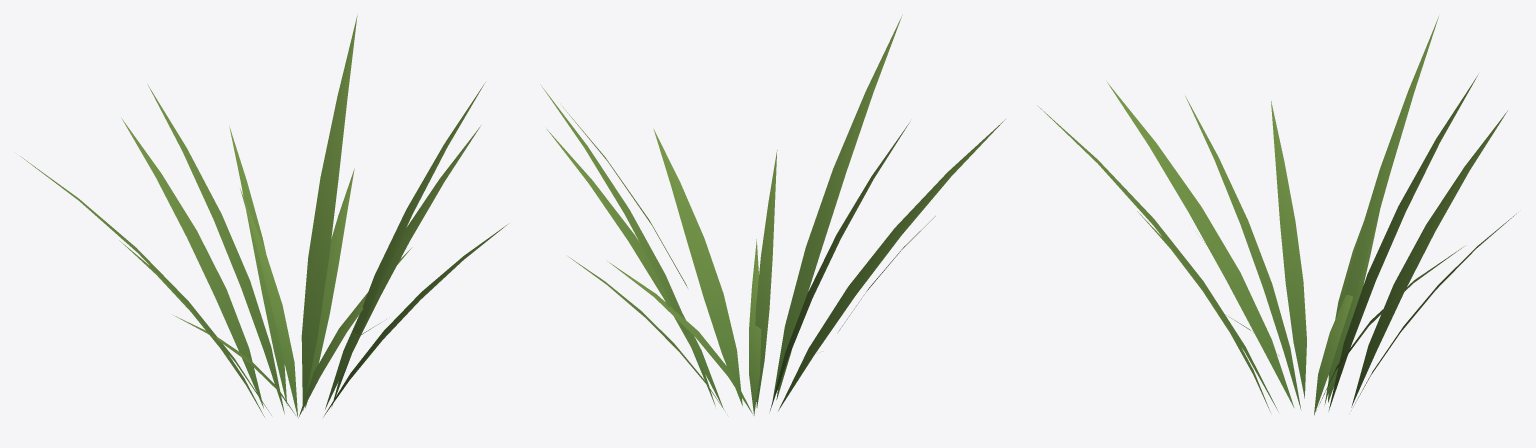
File: tuft.glb
3 renders of one model, left to right at view 1: azimuth 30°, elevation 25°; view 2: azimuth 150°, elevation 25°; view 3: azimuth 270°, elevation 25°, orthographic. The views are drawn at different scales.
Visible parts, largest first — view 1: tuft; view 2: tuft; view 3: tuft.
Boxes of the visible parts, x1,y1,x2,y2 form: tuft: [20, 14, 507, 418]; tuft: [540, 15, 1005, 415]; tuft: [1037, 16, 1516, 415].
Bounding box in the file's own units: 0.4713 × 0.3475 × 0.452.
